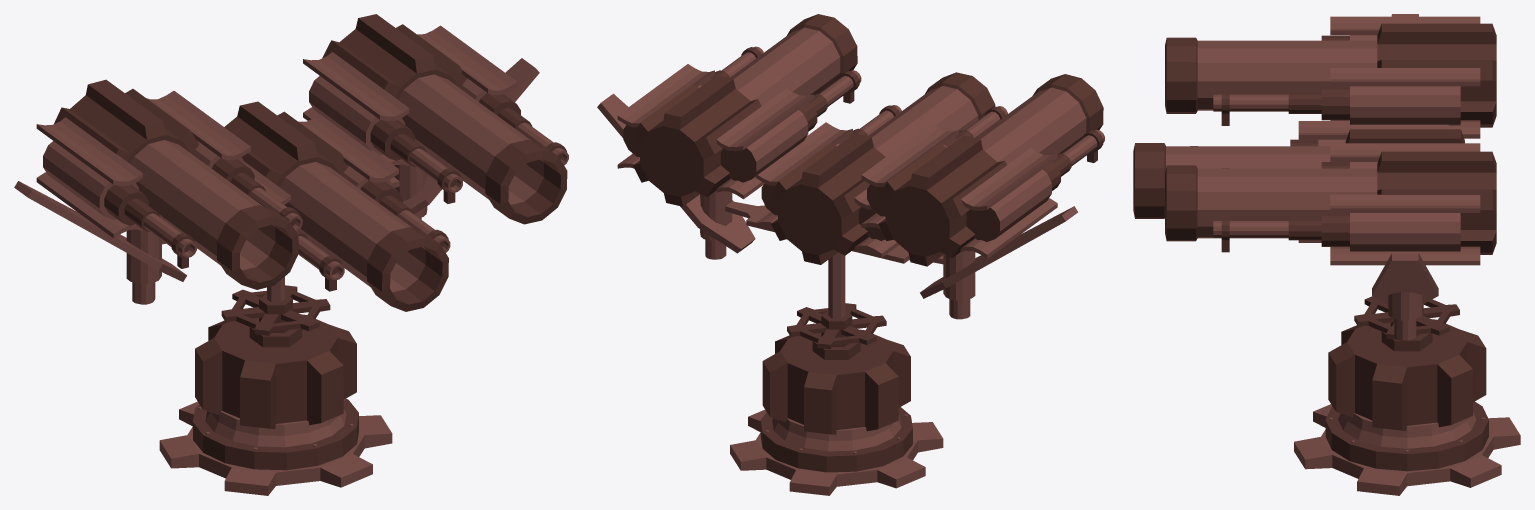
File: cannon_7.glb
3 views of the same model, side by side, from view 1: azimuth 30°, elevation 25°; view 2: azimuth 150°, elevation 25°; view 3: azimuth 270°, elevation 25° (orthographic). The views are drawn at different scales.
Visible parts, largest first — view 1: _MeshInstance3D_152, _MeshInstance3D_151, _MeshInstance3D_153; view 2: _MeshInstance3D_152, _MeshInstance3D_151, _MeshInstance3D_153; view 3: _MeshInstance3D_152, _MeshInstance3D_151, _MeshInstance3D_153.
Part boxes in pixels (x1,y1,x2,y2): _MeshInstance3D_152: [14, 14, 568, 311]; _MeshInstance3D_151: [159, 314, 392, 495]; _MeshInstance3D_153: [221, 277, 330, 347]; _MeshInstance3D_152: [597, 14, 1104, 319]; _MeshInstance3D_151: [730, 329, 943, 495]; _MeshInstance3D_153: [787, 252, 886, 359]; _MeshInstance3D_152: [1133, 14, 1496, 340]; _MeshInstance3D_151: [1294, 319, 1520, 495]; _MeshInstance3D_153: [1354, 296, 1459, 351].
Size of the model in its own units: 3.49 by 2.4 by 2.35.
